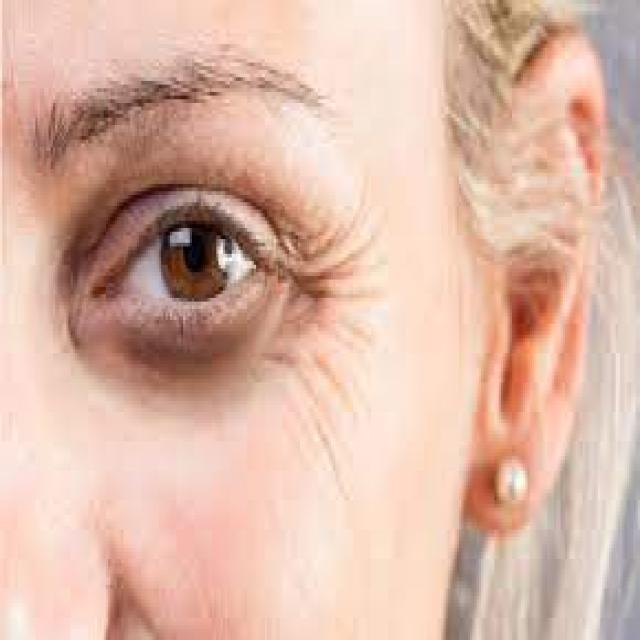Eyes-iris: (153, 206, 235, 312)
